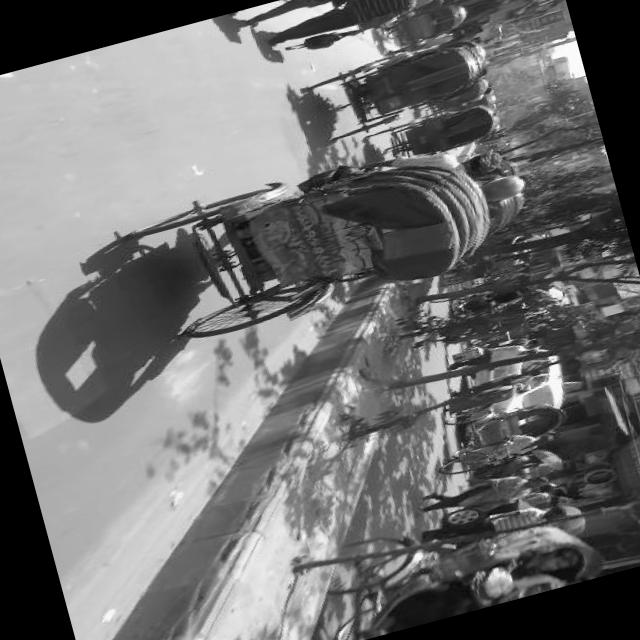motorcycle: (122, 117, 544, 357), (294, 31, 492, 148), (419, 386, 576, 482), (358, 94, 508, 170), (368, 0, 477, 58)
truck: (446, 342, 574, 438)
